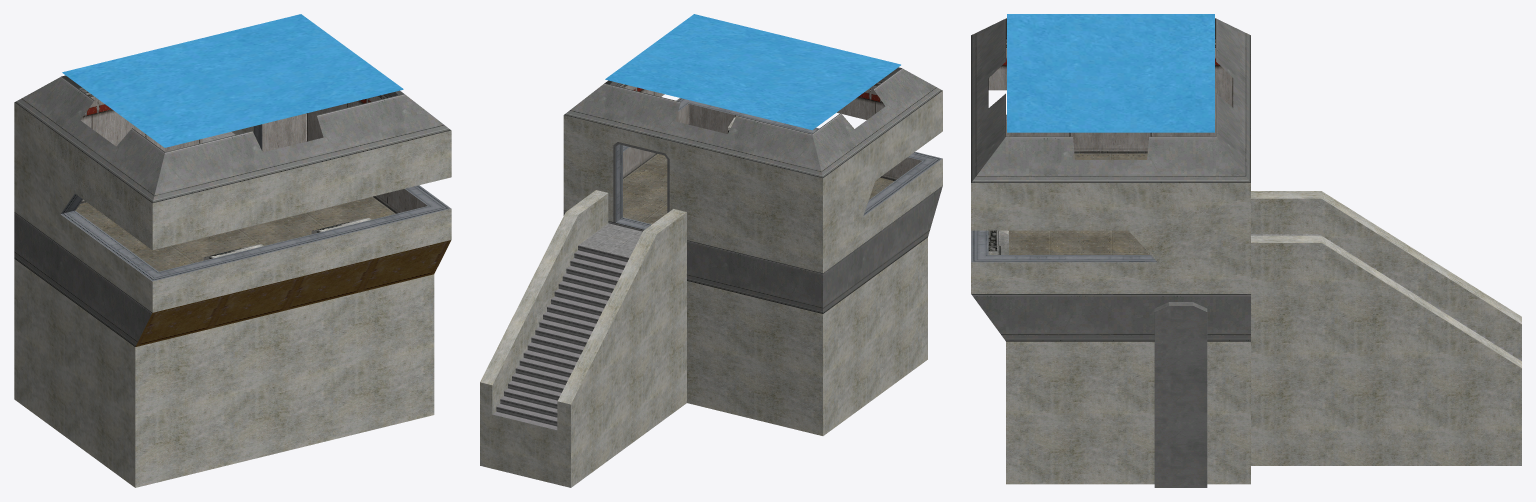
Rendered from mun_all_military_base_gate_house_rebl_s01_l1.fbx.
3 renders of one model, left to right at view 1: azimuth 30°, elevation 25°; view 2: azimuth 150°, elevation 25°; view 3: azimuth 270°, elevation 25°, orthographic. The views are drawn at different scales.
Visible parts, largest first — view 1: mesh_node; view 2: mesh_node; view 3: mesh_node.
Boxes of the visible parts, left/top/right/bottom form: mesh_node: left=14, top=14, right=451, bottom=487; mesh_node: left=480, top=14, right=942, bottom=487; mesh_node: left=971, top=14, right=1521, bottom=487.
Bounding box in the file's own units: 10.25 × 10.64 × 15.74.
